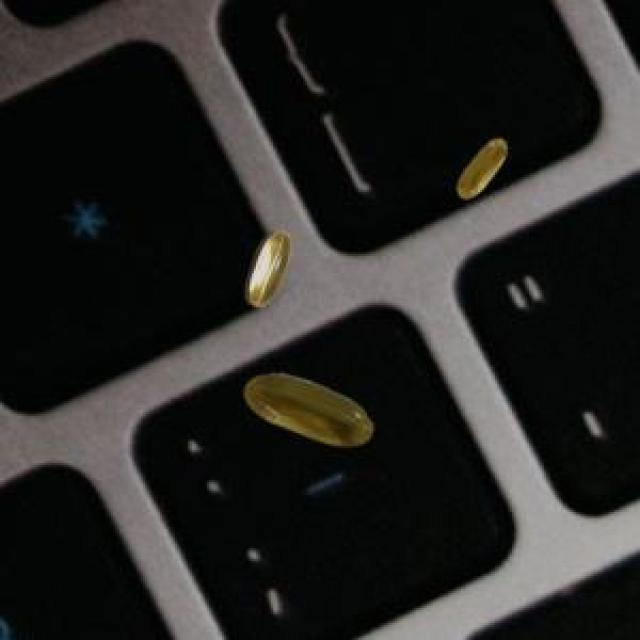Fish_Oil: (232, 356, 382, 463), (234, 222, 297, 320), (448, 127, 514, 215)
